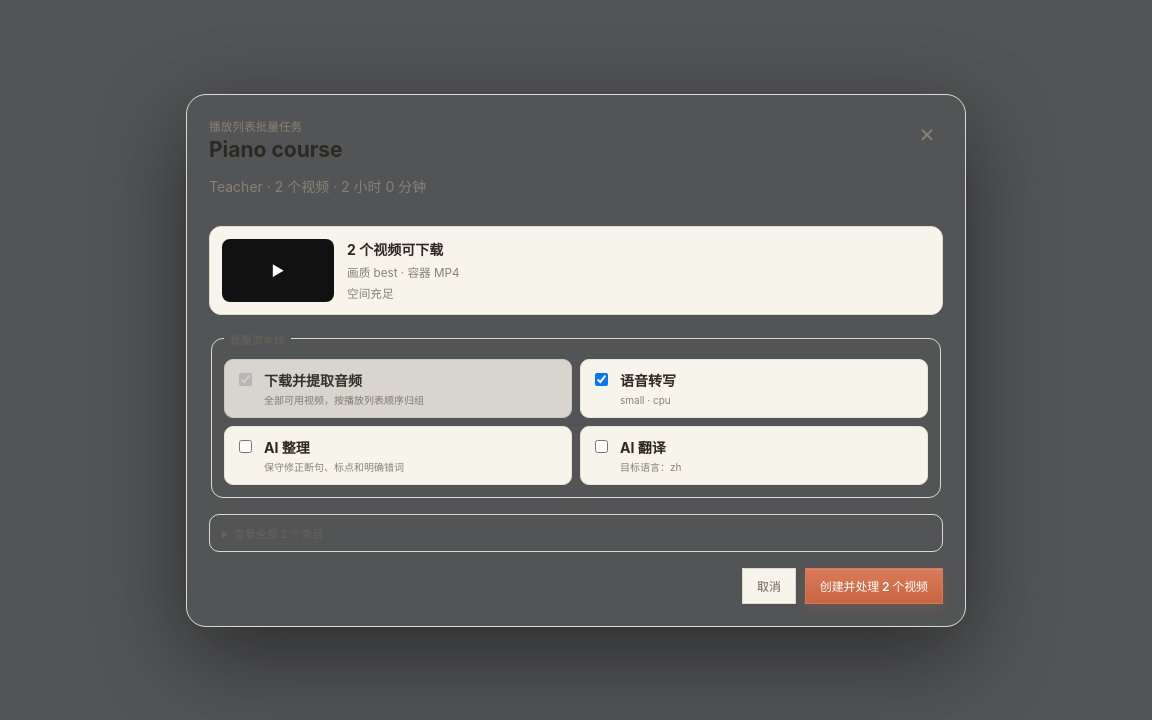
playlist batches › previews the playlist and requires explicit consent for AI stages
Expected: the heading "Piano course" is shown, [209, 136, 342, 162]
Step 1. Click the checkbox labelled "AI 整理 保守修正断句、标点和明确错词" → (246, 446), box [239, 440, 252, 452]
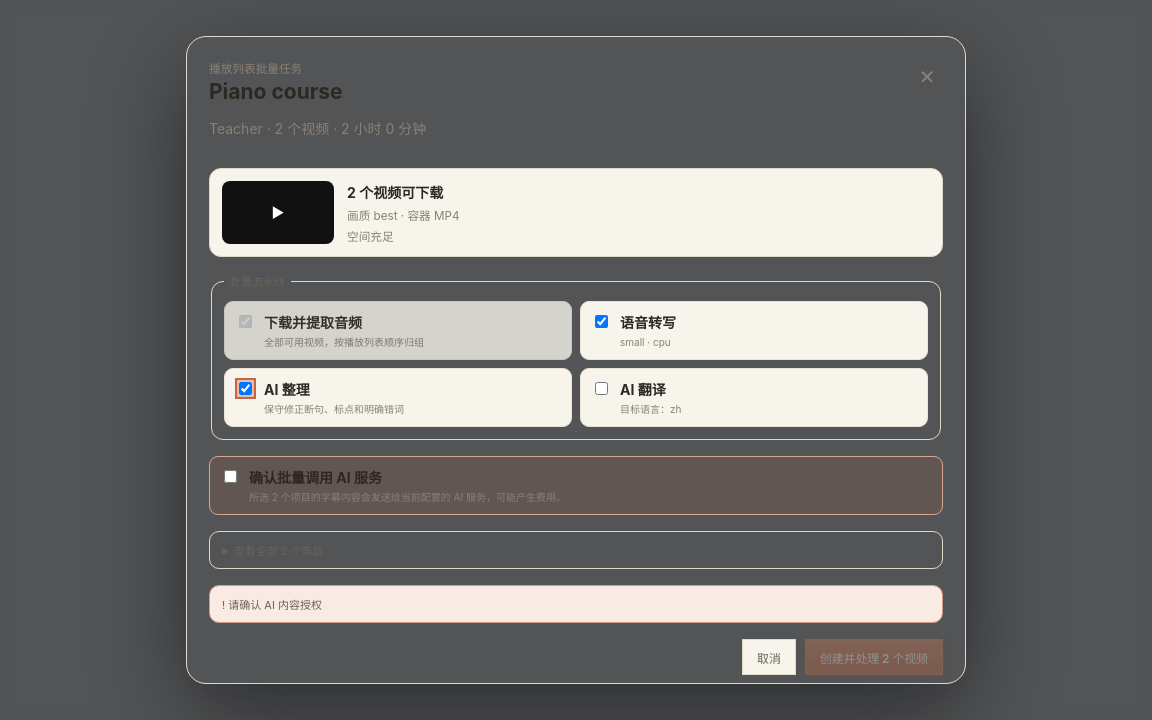
Expected: the button "创建并处理 2 个视频" is disabled, [805, 639, 943, 675]
Step 2. Click the checkbox labelled "确认批量调用 AI 服务 所选 2 个项目的字幕内容会发送给当前配置的 AI 服务，可能产生费用。" → (230, 476), box [224, 470, 237, 483]
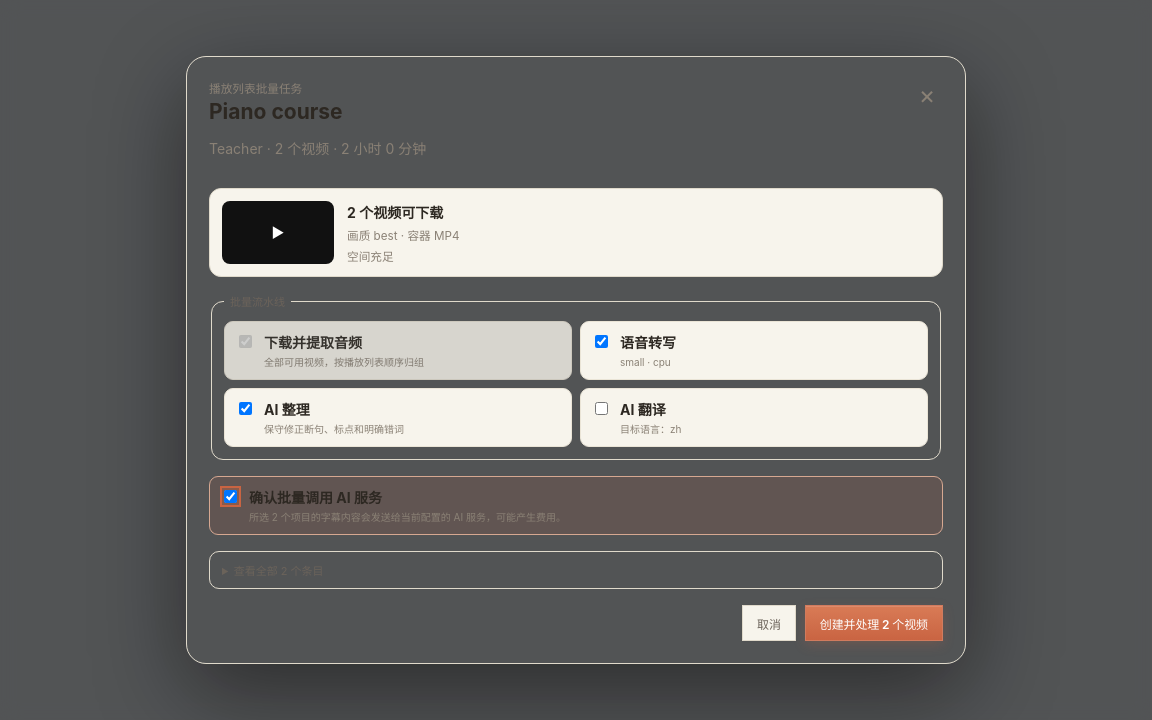
Expected: the button "创建并处理 2 个视频" is enabled, [805, 605, 943, 641]
